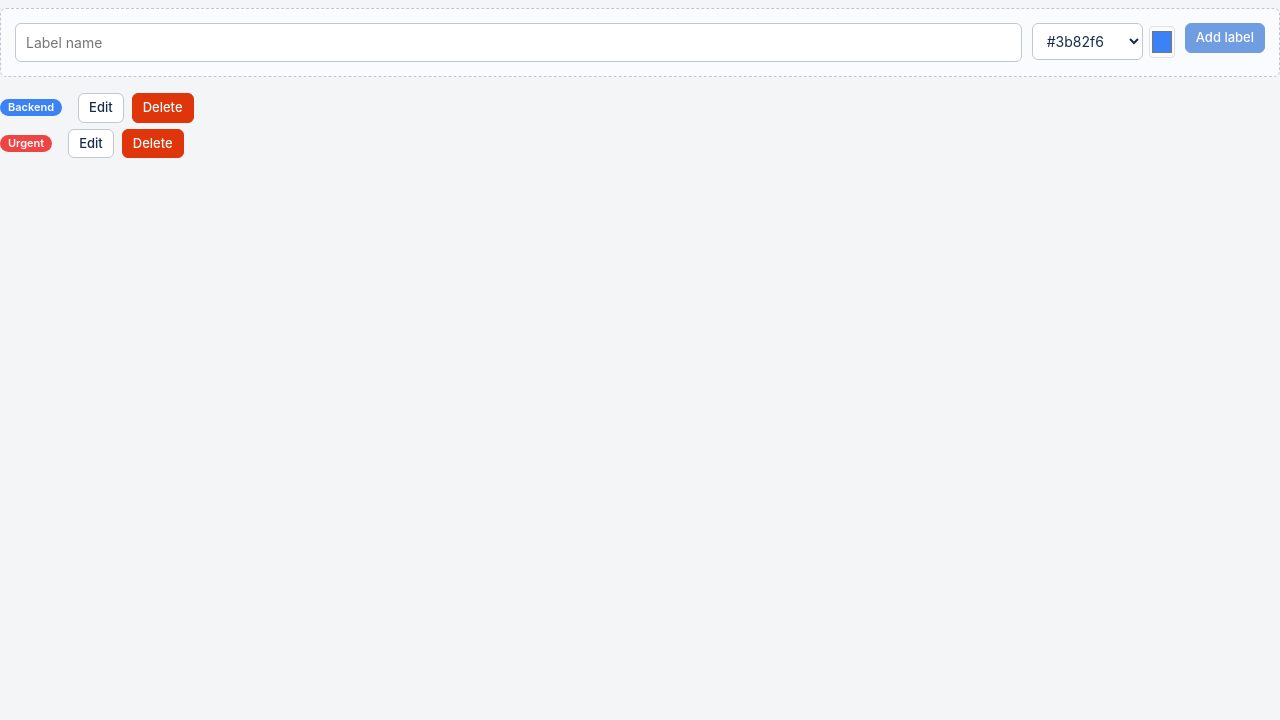
Test: LabelsManager › lists a team labels and creates a new one
This screenshot has width=1280, height=720.
expect the text "Backend" is shown: met, box [0,99,62,116]
Type "Docs" into the field named "New label name". click: (518, 42)
box: [15,23,1022,62]
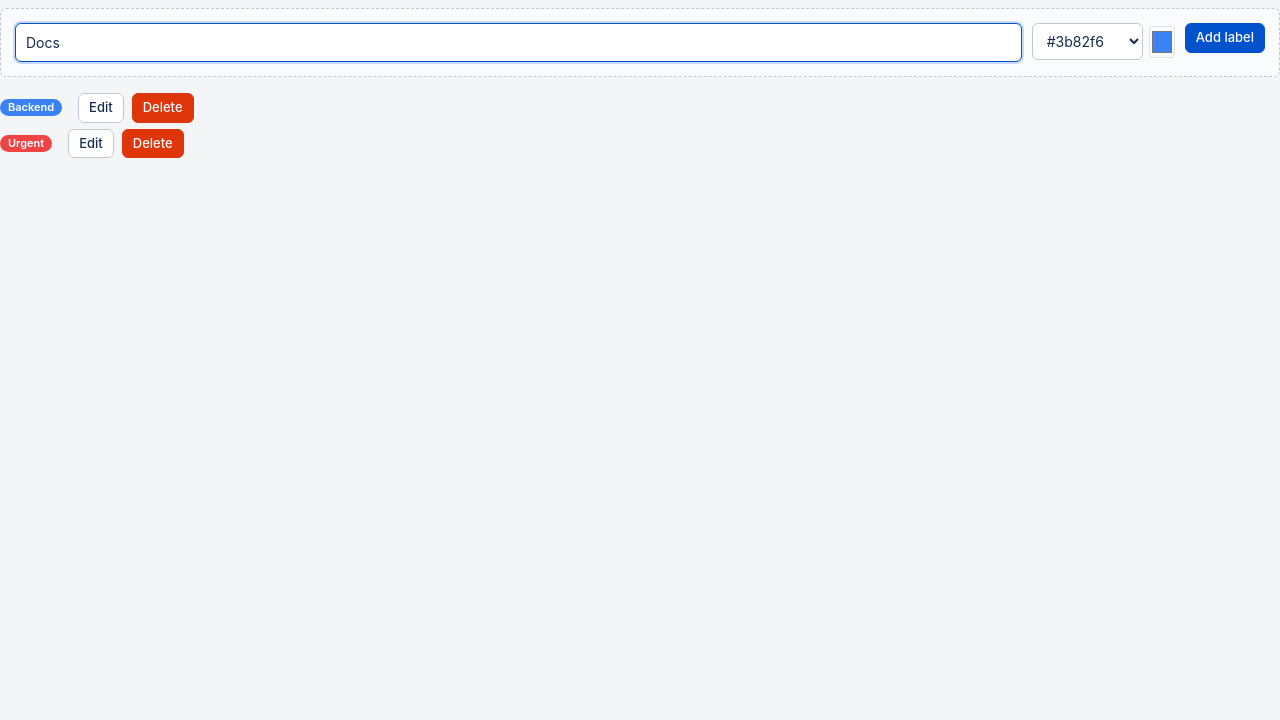
Click the button "Add label". click: (1225, 38)
box: [1185,23,1265,52]
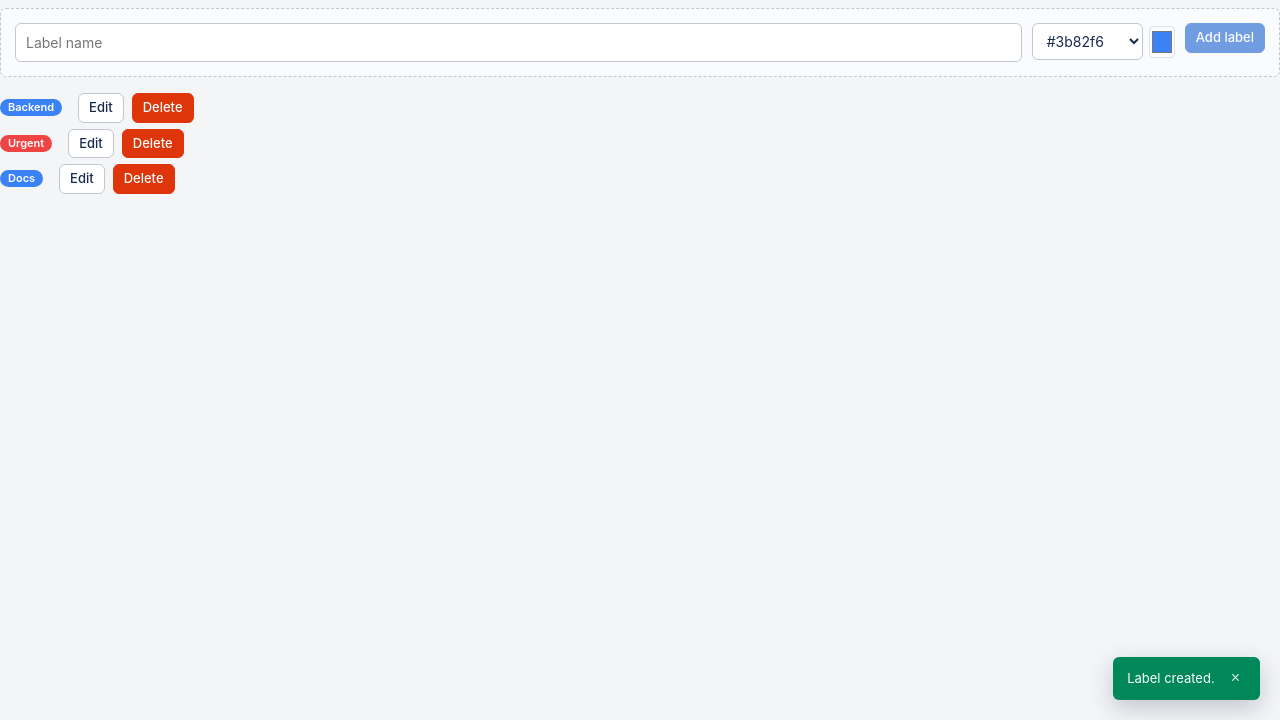
expect the text "Docs" is shown: met, box [0,170,43,187]
